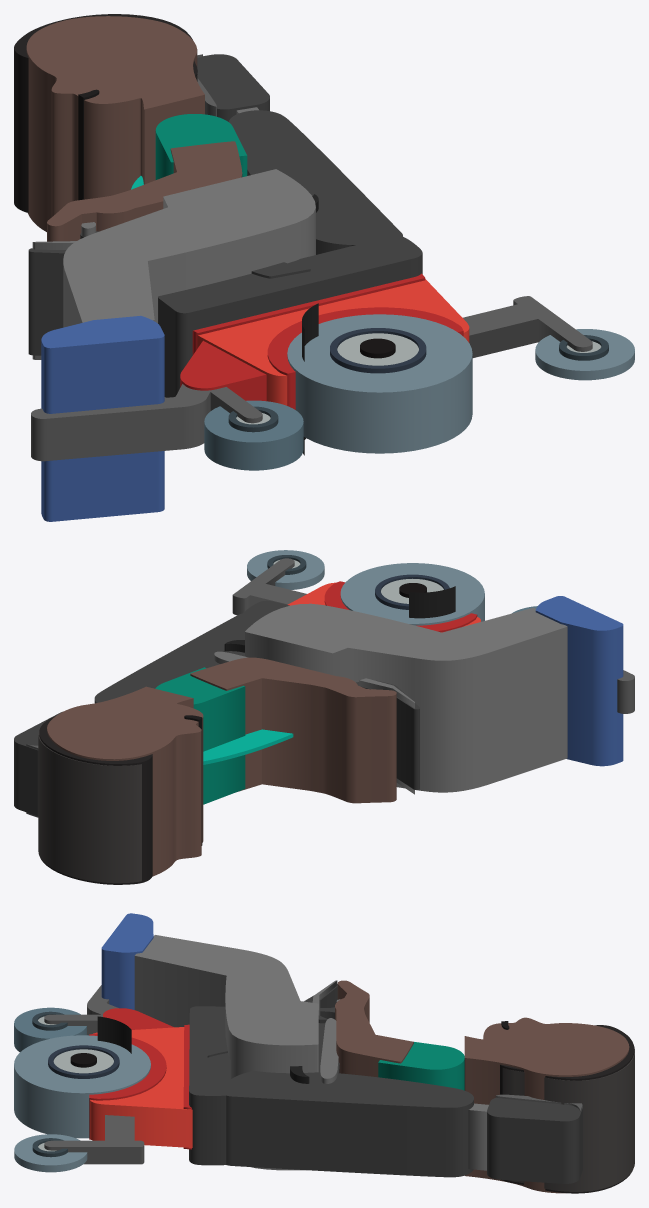
File: emoji_u1f468_1f3ff_200d_1f9bc.glb
The picture shows the model from 3 angles, top to bottom: view 1: azimuth 30°, elevation 25°; view 2: azimuth 150°, elevation 25°; view 3: azimuth 270°, elevation 25°; orthographic projection. The views are drawn at different scales.
Visible parts, largest first — view 1: emoji_u1f468_1f3ff_200d_1f9bc; view 2: emoji_u1f468_1f3ff_200d_1f9bc; view 3: emoji_u1f468_1f3ff_200d_1f9bc.
Boxes of the visible parts, box(x1,y1,x2,y2) form: emoji_u1f468_1f3ff_200d_1f9bc: box(14, 14, 634, 521); emoji_u1f468_1f3ff_200d_1f9bc: box(14, 550, 634, 884); emoji_u1f468_1f3ff_200d_1f9bc: box(14, 913, 634, 1193).
Bounding box in the file's own units: 0.0242 × 0.0074 × 0.0324.
